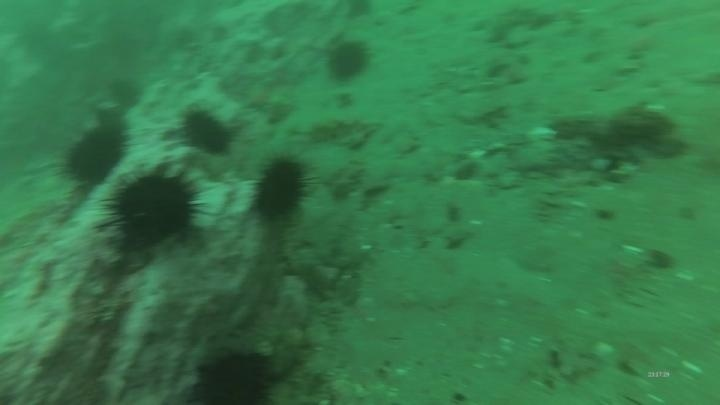echinus: (102, 166, 205, 255), (187, 346, 278, 405), (60, 121, 131, 189), (250, 154, 315, 224), (178, 105, 236, 158), (324, 37, 373, 86), (105, 75, 145, 112)
holothurian: (302, 113, 382, 149)
